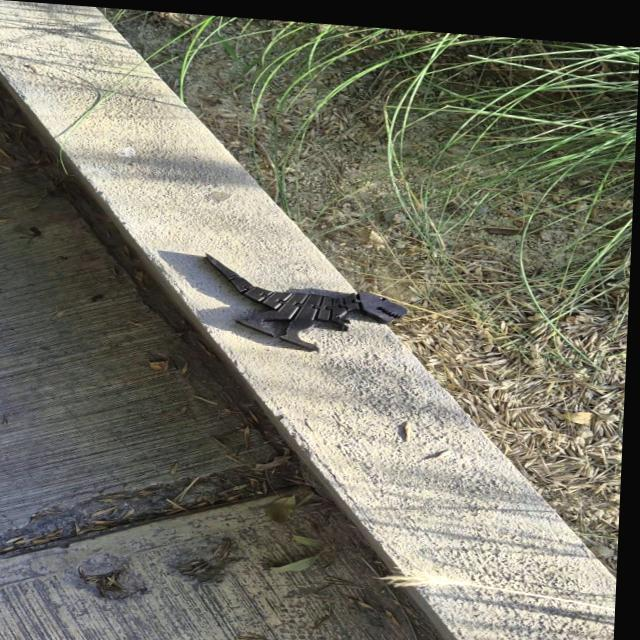dino: (200, 252, 411, 361)
